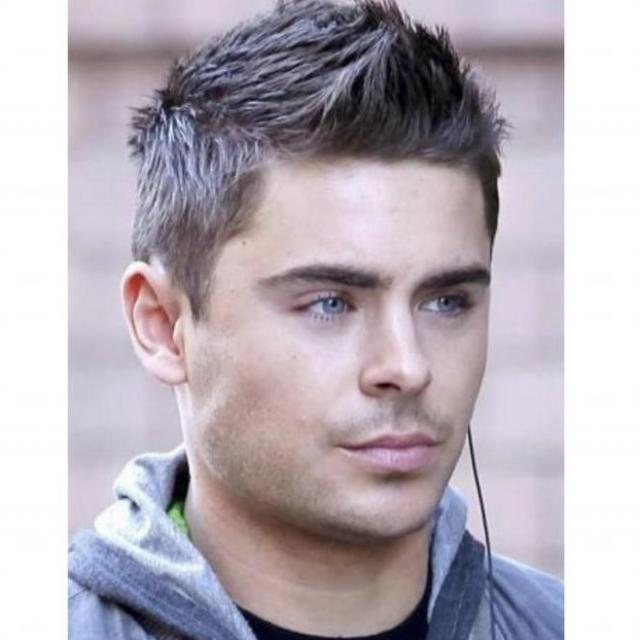live: (183, 63, 511, 545)
